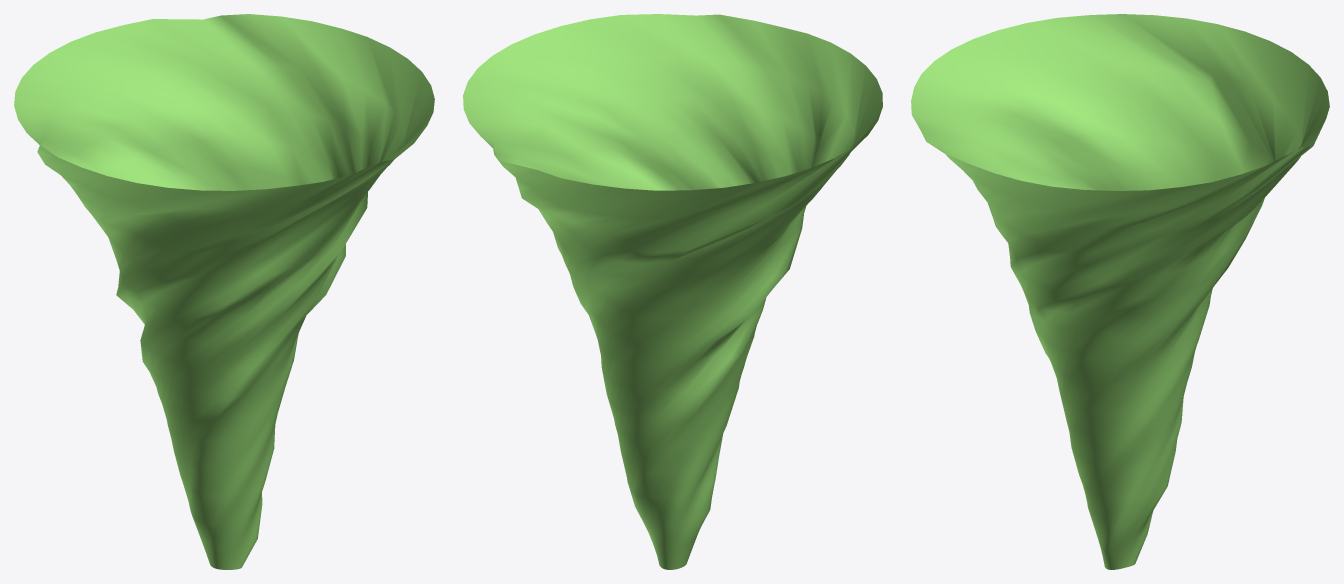
File: Tornado.fbx
The picture shows the model from 3 angles, left to right: view 1: azimuth 30°, elevation 25°; view 2: azimuth 150°, elevation 25°; view 3: azimuth 270°, elevation 25°; orthographic projection.
Parts seen in each view (by area): view 1: Cylinder; view 2: Cylinder; view 3: Cylinder.
Boxes of the visible parts, <box> form: Cylinder: <box>14,14,434,569</box>; Cylinder: <box>463,14,882,569</box>; Cylinder: <box>911,14,1329,569</box>.
Size of the model in its own units: 392 by 476 by 392.
